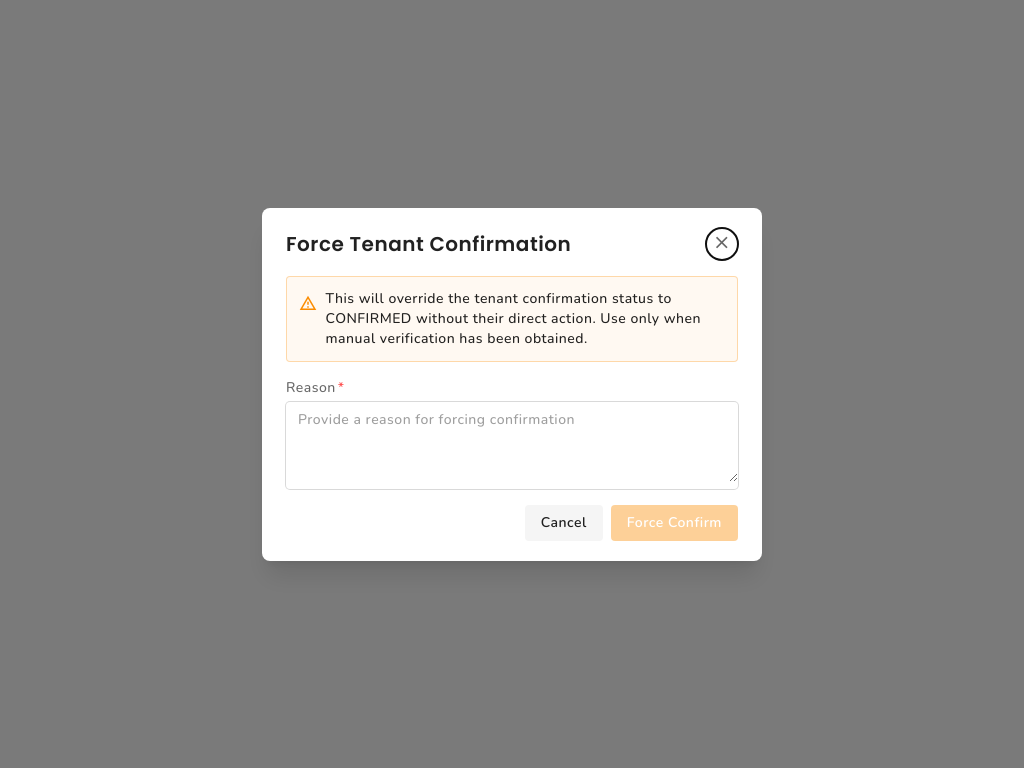
Test: ForceConfirmDialog › enables Force Confirm button when reason is provided
Type "Verbal confirmation over phone" into the text box named "Force confirmation reason" at (512, 442), box [286,402,738,482]
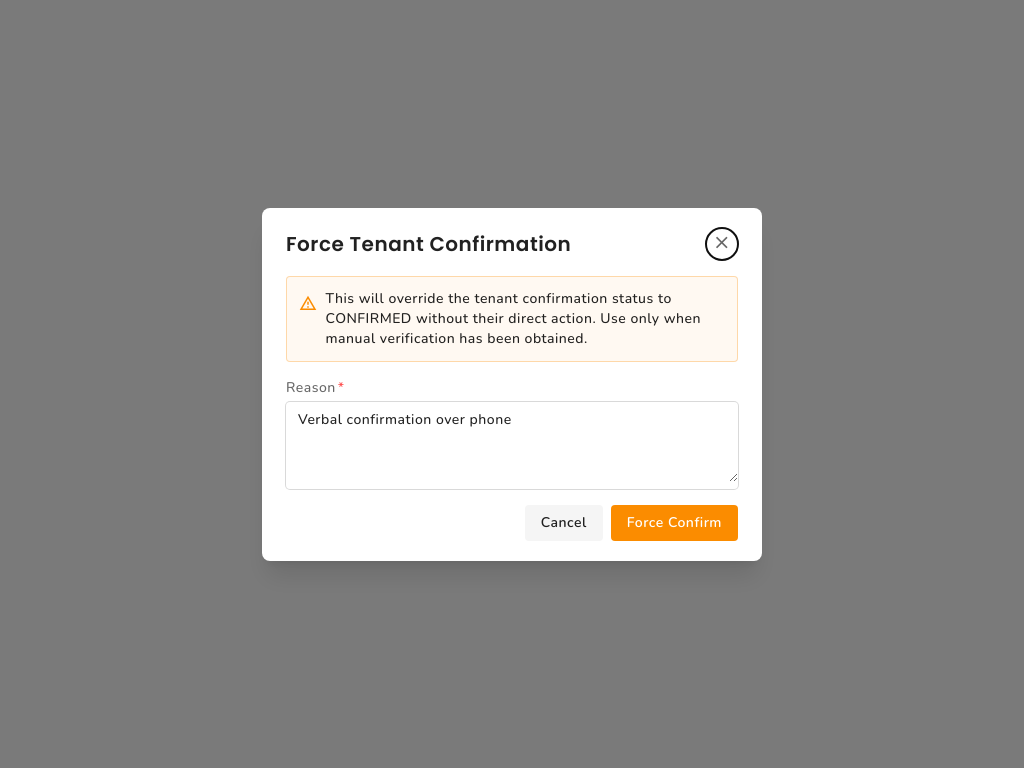
Expected: the button "Force Confirm" is enabled, [611,504,738,540]
